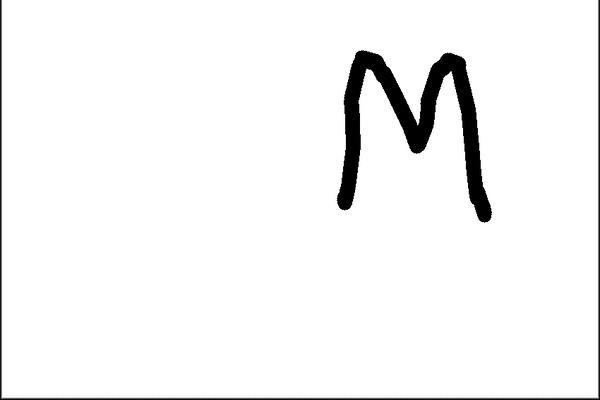M: (339, 42, 494, 225)
